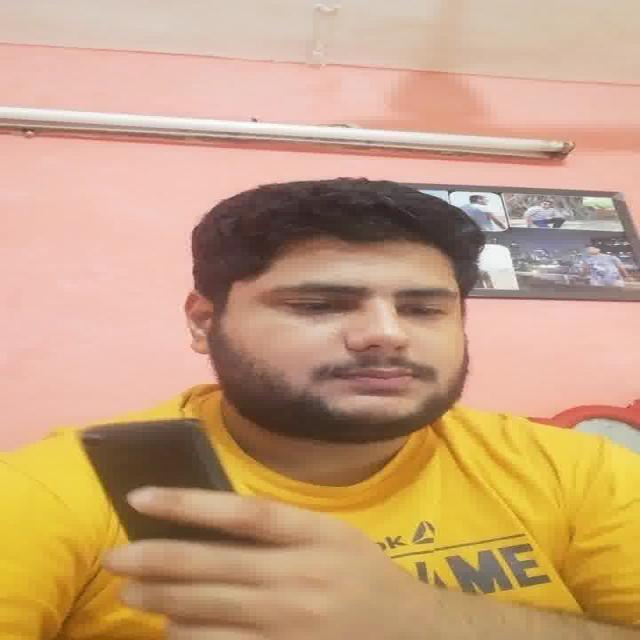Phone: (78, 412, 240, 538)
